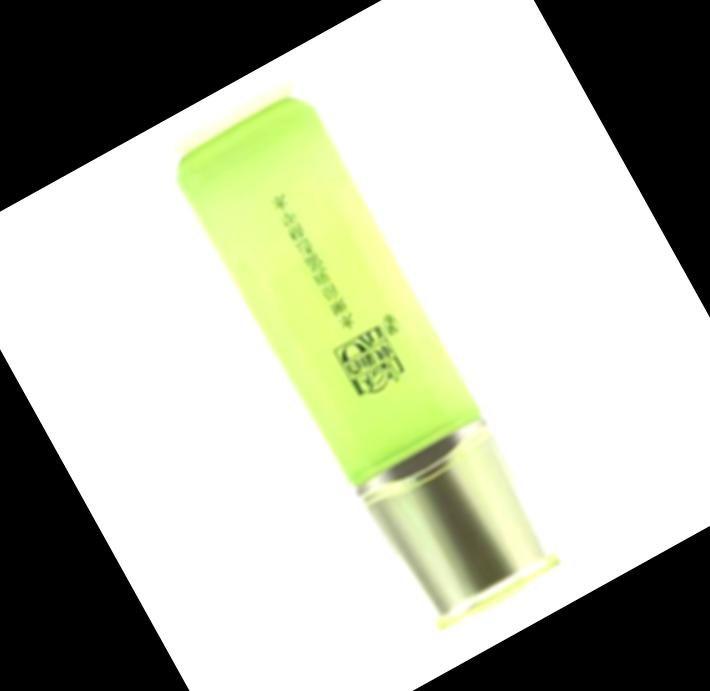cosmetic: (177, 97, 572, 639)
